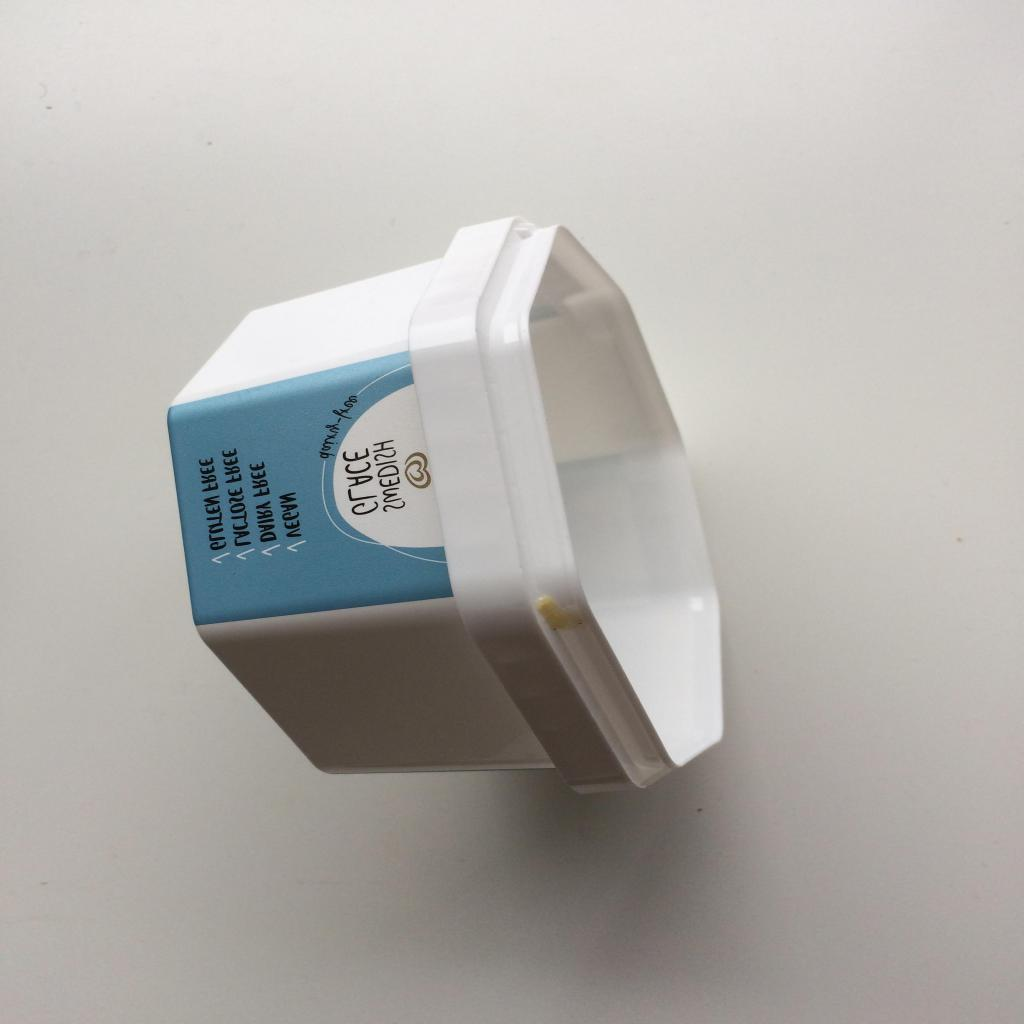Spread tub: (168, 216, 722, 794)
